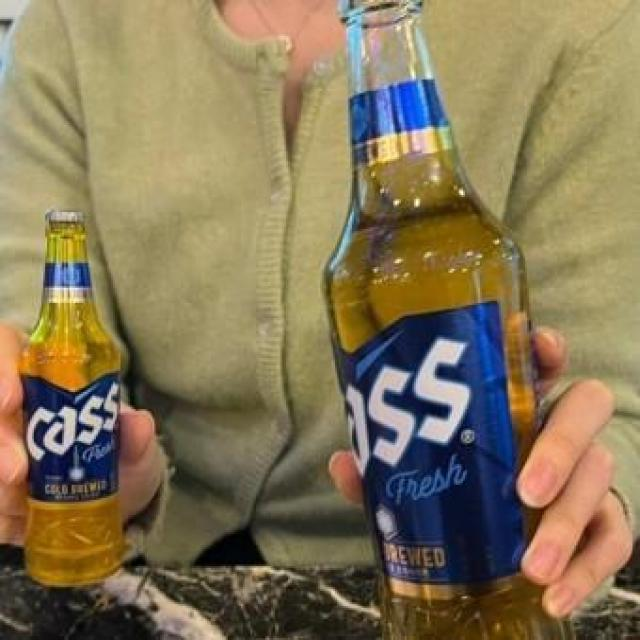beer-bottle: (314, 0, 572, 640), (18, 204, 128, 590)
